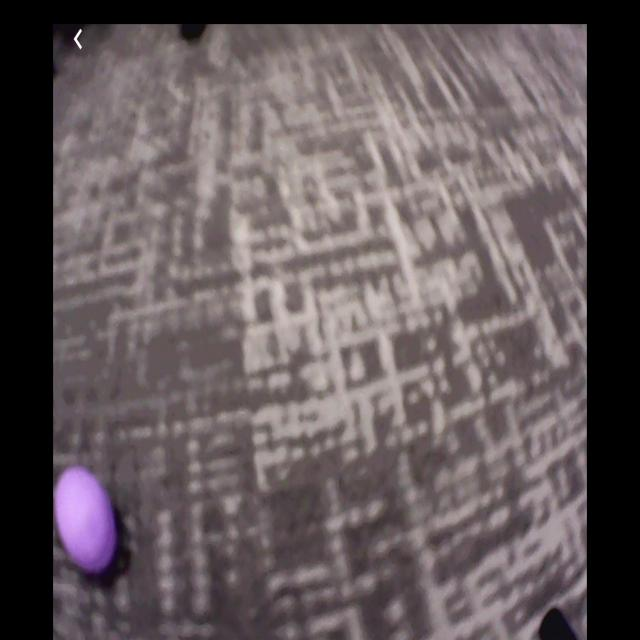ball: (57, 466, 118, 570)
